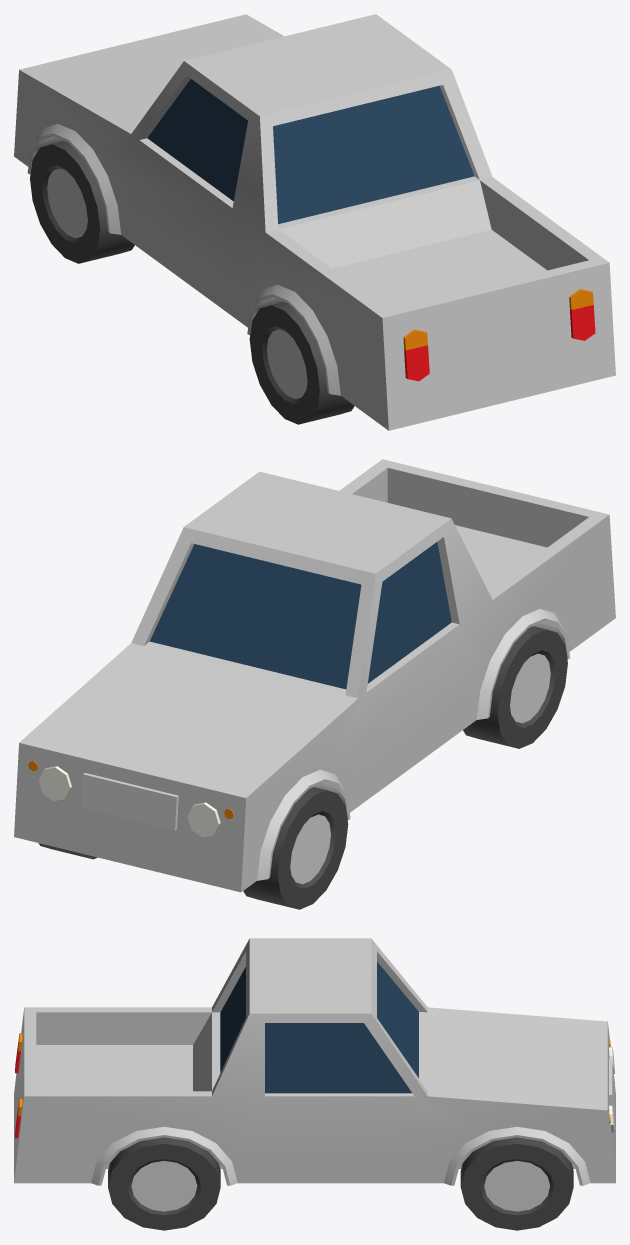
The model's file is truck.glb.
3 renders of one model, top to bottom at view 1: azimuth 30°, elevation 25°; view 2: azimuth 150°, elevation 25°; view 3: azimuth 270°, elevation 25°, orthographic. The views are drawn at different scales.
Visible parts, largest first — view 1: Truck; view 2: Truck; view 3: Truck.
Boxes of the visible parts, x1,y1,x2,y2 form: Truck: (14,14,615,430); Truck: (14,459,615,909); Truck: (14,938,615,1230).
Bounding box in the file's own units: 1.91 × 1.89 × 5.
